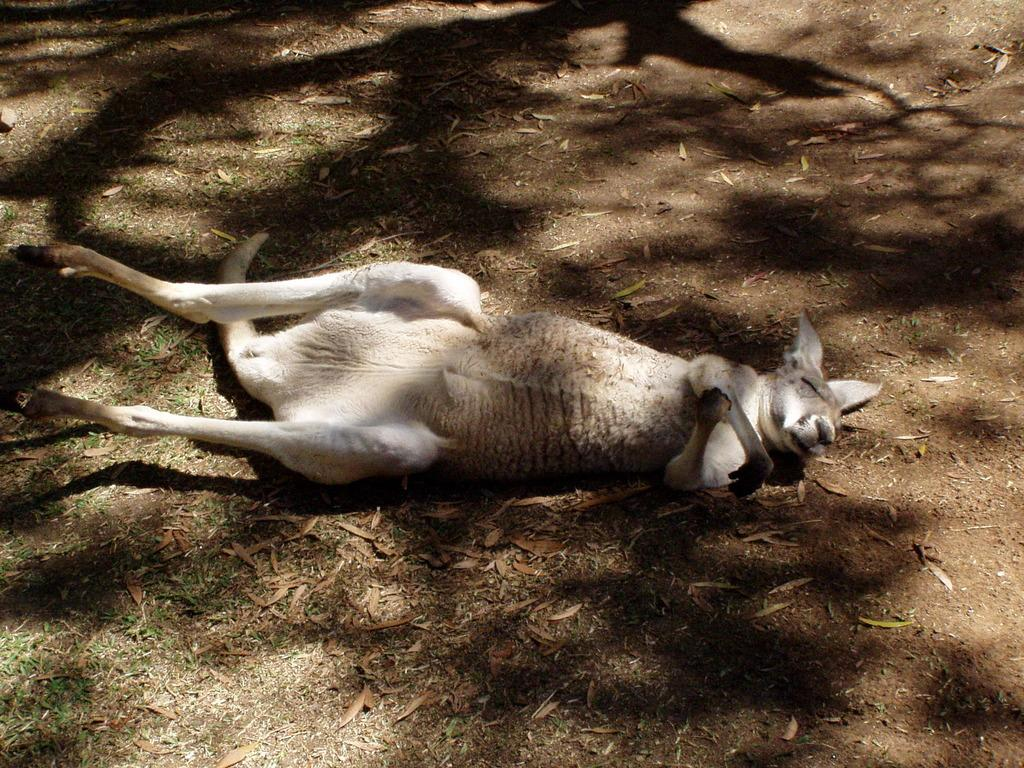kangaroo: (8, 239, 880, 492)
